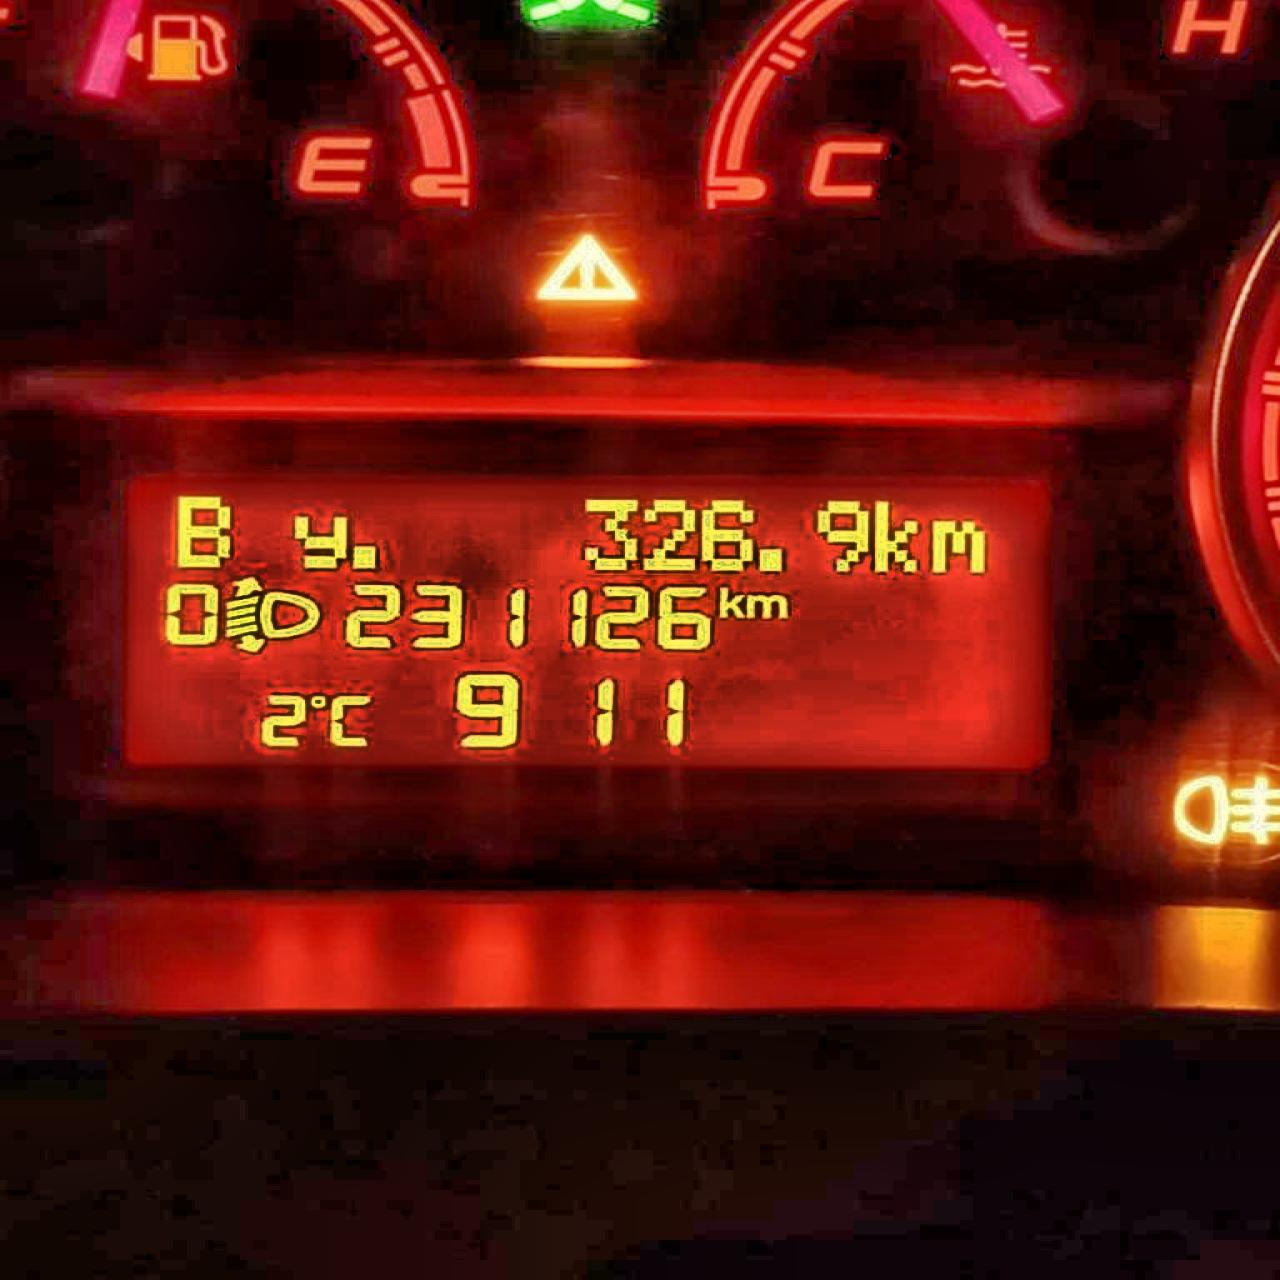-: (347, 542, 379, 570), (754, 546, 787, 573)
0: (158, 580, 222, 646)
1: (660, 676, 687, 748), (591, 675, 617, 747), (504, 585, 529, 649), (567, 585, 591, 649)
2: (640, 496, 699, 573), (342, 580, 403, 649), (592, 583, 651, 648), (257, 692, 306, 750)
3: (578, 496, 640, 573), (408, 581, 464, 651)
6: (699, 496, 755, 576)
9: (450, 672, 522, 749), (813, 499, 872, 576)
X: (172, 491, 236, 570), (870, 499, 920, 576), (927, 516, 990, 576), (288, 511, 348, 570), (327, 693, 375, 747), (743, 591, 789, 620), (715, 585, 745, 619)
odometer: (110, 465, 1060, 776)
